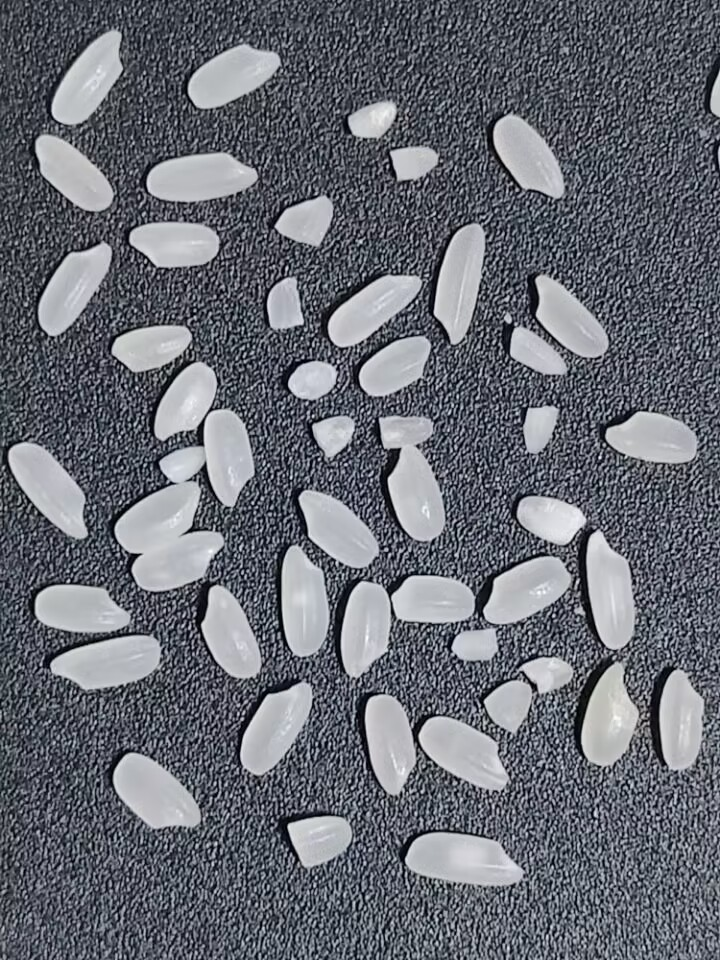broken: (284, 808, 357, 874), (505, 324, 573, 387), (270, 194, 335, 250), (478, 676, 536, 737), (261, 275, 310, 338), (305, 411, 361, 464), (514, 396, 561, 456), (520, 651, 580, 698), (341, 94, 399, 141), (385, 141, 438, 191), (287, 359, 342, 404), (155, 443, 215, 484), (449, 623, 505, 666), (377, 413, 436, 449)
rice: (106, 751, 205, 839), (234, 679, 316, 780), (42, 26, 126, 124), (34, 239, 113, 341), (324, 269, 422, 351), (429, 221, 491, 350), (484, 108, 566, 205), (8, 442, 88, 540), (583, 526, 645, 651), (292, 485, 381, 572), (30, 131, 122, 214), (531, 269, 610, 359), (384, 441, 450, 547), (480, 553, 574, 627), (600, 404, 701, 472), (419, 716, 509, 792), (181, 41, 281, 109), (404, 832, 523, 888), (114, 479, 201, 553), (337, 576, 396, 681), (142, 150, 260, 202), (50, 635, 161, 690), (581, 661, 638, 767), (354, 328, 433, 404), (200, 584, 262, 680), (657, 662, 707, 781), (131, 530, 224, 592), (279, 545, 330, 657), (363, 694, 418, 796), (203, 408, 255, 509), (386, 568, 478, 625), (153, 361, 218, 441), (124, 221, 222, 272), (34, 584, 132, 632), (110, 324, 192, 373), (516, 496, 586, 546)
